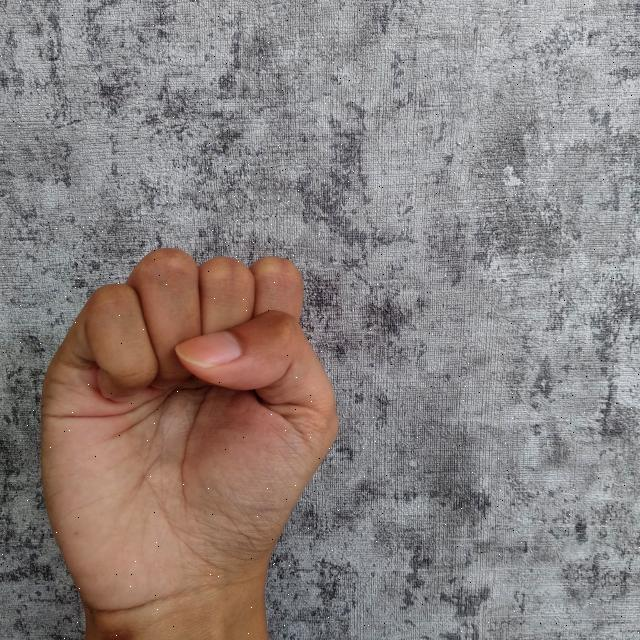S: (31, 239, 344, 640)
